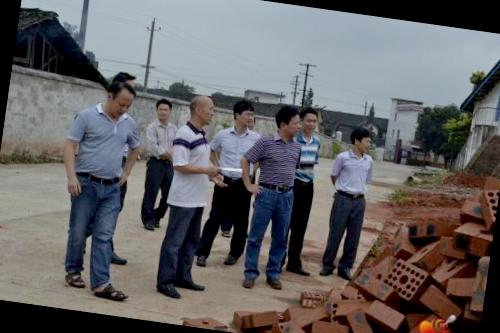no_helmet: (102, 79, 139, 119), (266, 102, 304, 140), (184, 88, 218, 130), (345, 121, 377, 157), (229, 96, 257, 132), (298, 104, 323, 138), (114, 68, 140, 94), (152, 94, 175, 123)
